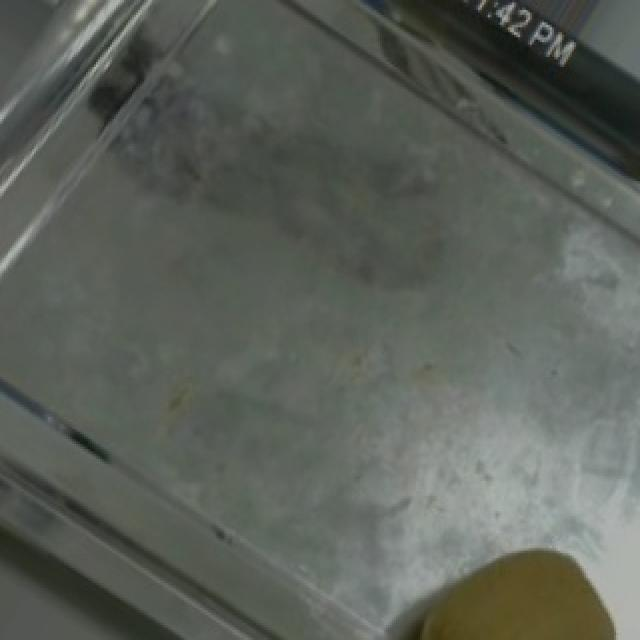Fruit: (386, 526, 638, 640)
